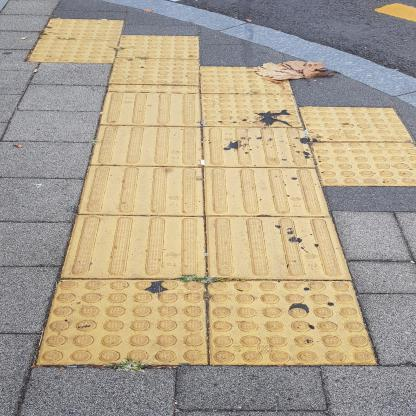podotacti: (13, 12, 416, 375)
